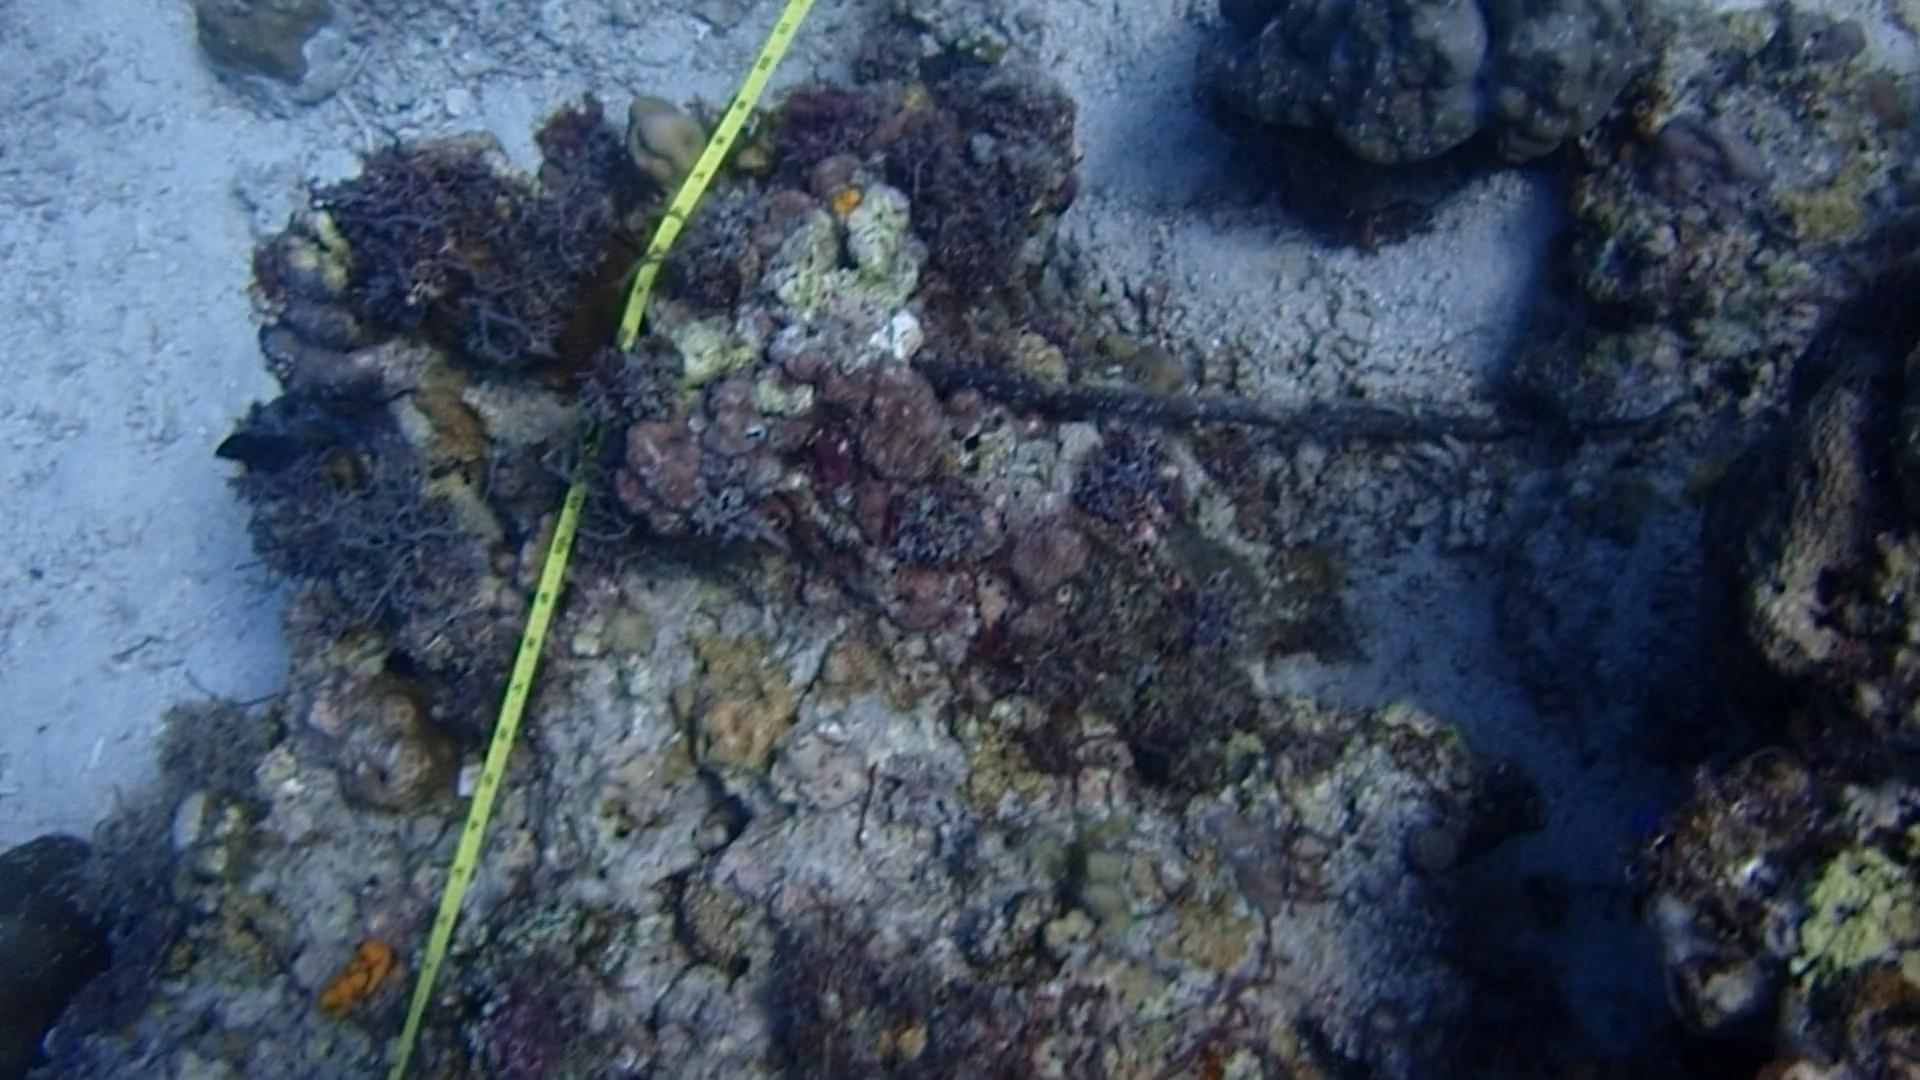Dark Fish: (202, 393, 338, 495)
